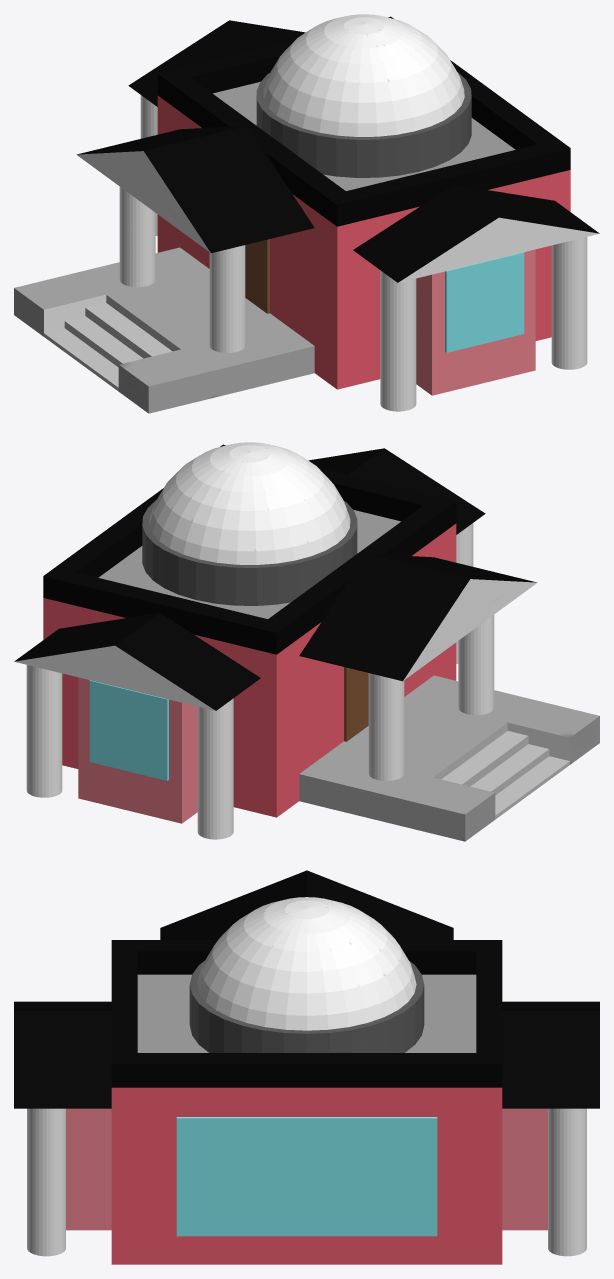
The model's file is townhall.gltf.
3 renders of one model, top to bottom at view 1: azimuth 30°, elevation 25°; view 2: azimuth 150°, elevation 25°; view 3: azimuth 270°, elevation 25°, orthographic. The views are drawn at different scales.
Parts seen in each view (by area): view 1: townhall; view 2: townhall; view 3: townhall.
Boxes of the visible parts, <box> form: townhall: <box>14,14,599,413</box>; townhall: <box>14,442,599,841</box>; townhall: <box>14,870,599,1264</box>.
Size of the model in its own units: 15.5 by 10 by 18.
Materials: 1 (1 with a texture image).
